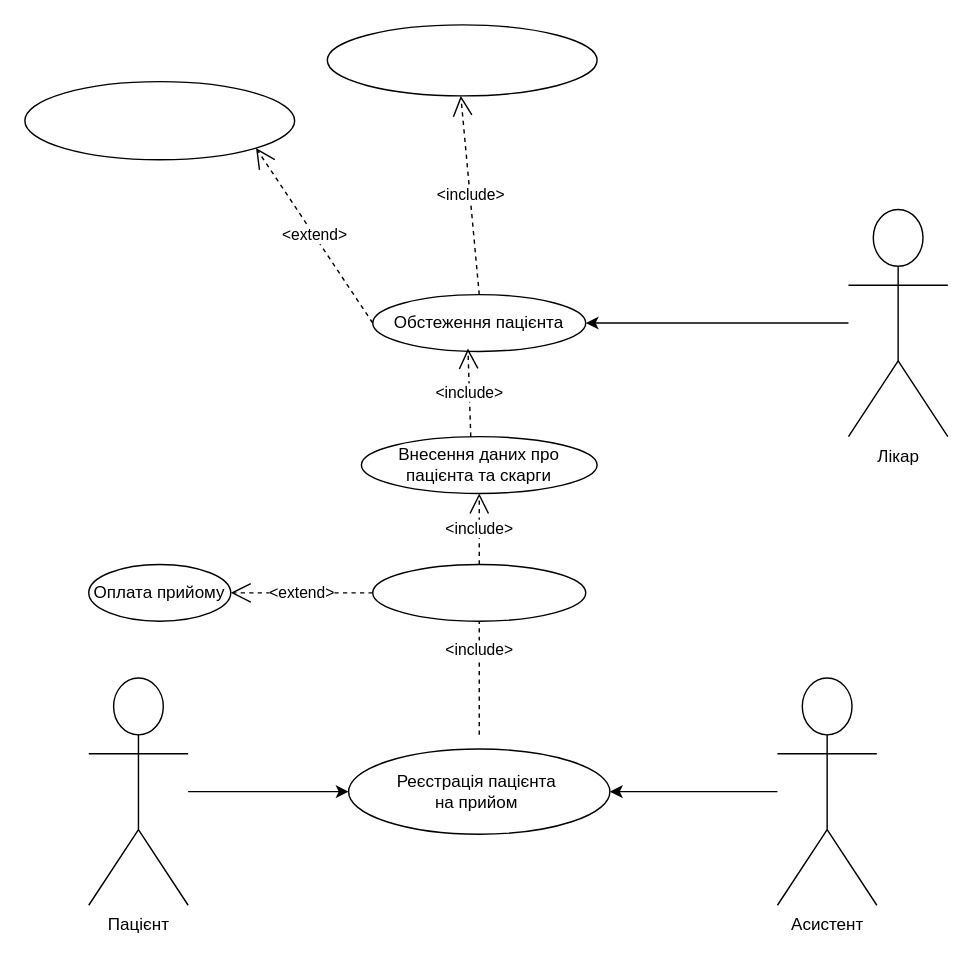
Some shapes in this 973 by 960 pixel diagram are drawn without their labels. The centre of each missing label's shape, as x and y in pixels:
"Виписання лікування" goes at pixel 461 59.
"Направити на додаткове обстеження" goes at pixel 159 120.
"перевірка за направленням" goes at pixel 478 592.
